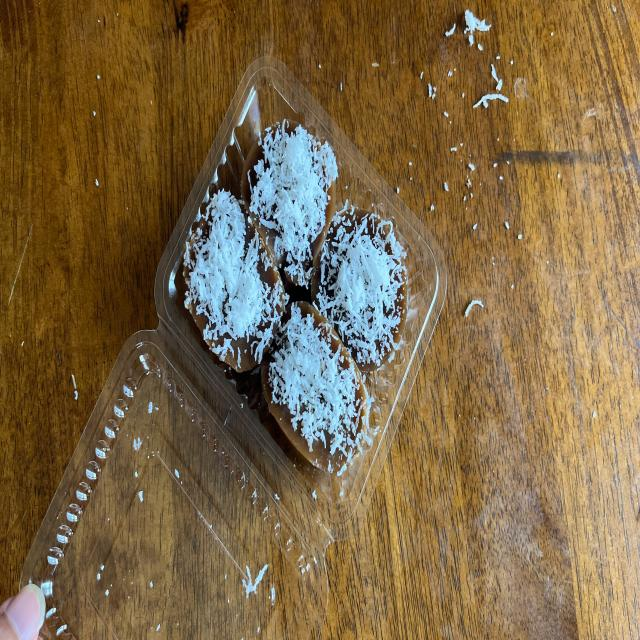Kuih lompang: (261, 302, 368, 476), (242, 120, 339, 293), (312, 207, 408, 371)
